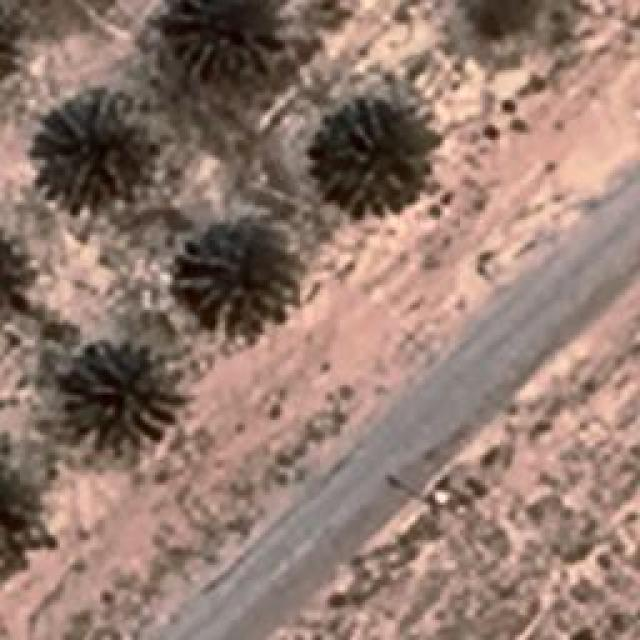PalmTree: (178, 218, 300, 340), (29, 90, 152, 210), (68, 340, 180, 450), (312, 110, 420, 215), (26, 115, 52, 514), (170, 0, 282, 78), (16, 97, 32, 270), (0, 218, 20, 318), (1, 0, 22, 85), (0, 0, 11, 87)
